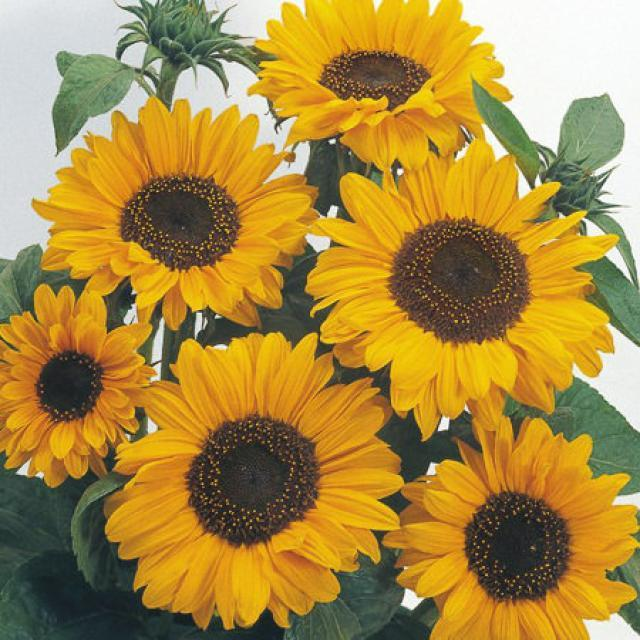sunflower: (304, 136, 619, 438), (102, 328, 404, 630), (29, 94, 318, 330), (381, 414, 639, 638), (247, 0, 512, 172), (0, 282, 155, 488)
